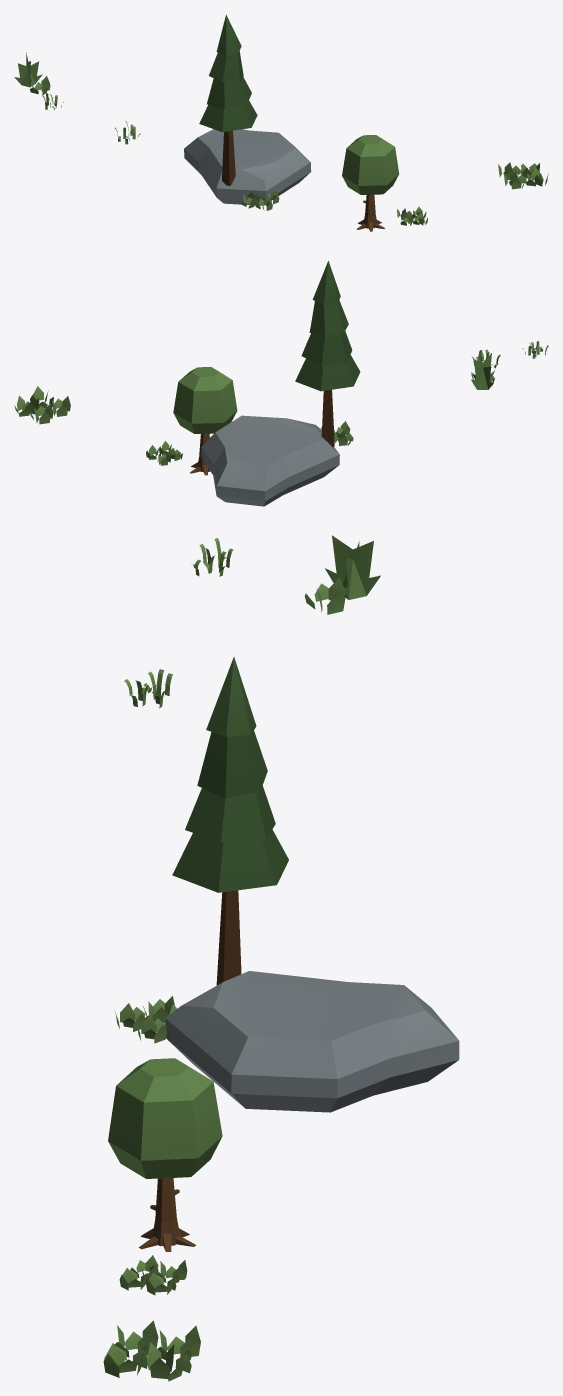
File: cell_x1_z-3_render.gltf
3 renders of one model, top to bottom at view 1: azimuth 30°, elevation 25°; view 2: azimuth 150°, elevation 25°; view 3: azimuth 270°, elevation 25°, orthographic. The views are drawn at different scales.
Parts seen in each view (by area): view 1: cell_x1_z-3; view 2: cell_x1_z-3; view 3: cell_x1_z-3.
Boxes of the visible parts, left/top/right/bottom form: cell_x1_z-3: left=14, top=14, right=548, bottom=231; cell_x1_z-3: left=14, top=261, right=548, bottom=506; cell_x1_z-3: left=103, top=535, right=459, bottom=1381.
Bounding box in the file's own units: 22.82 × 10.4 × 7.23.
